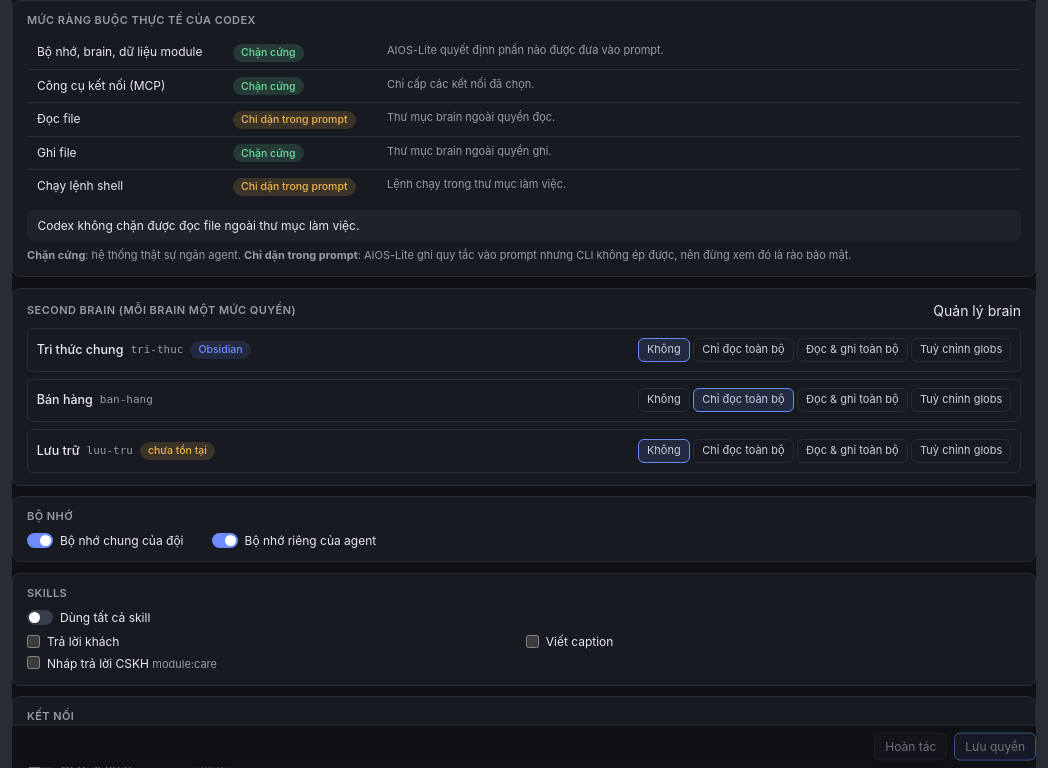
Scenario: brain management and skills admin (mock api) › agent access tab lists every brain with presets
Expected: the radio button labelled "Chỉ đọc toàn bộ" in the row of "ban-hang" is shown, [693, 388, 794, 412]
Expected: the radio button labelled "Không" in the row of "Obsidian" is shown, [638, 338, 690, 362]
Click the radio button labelled "Đọc & ghi toàn bộ" in the row of "Obsidian": (852, 350) [797, 338, 908, 362]
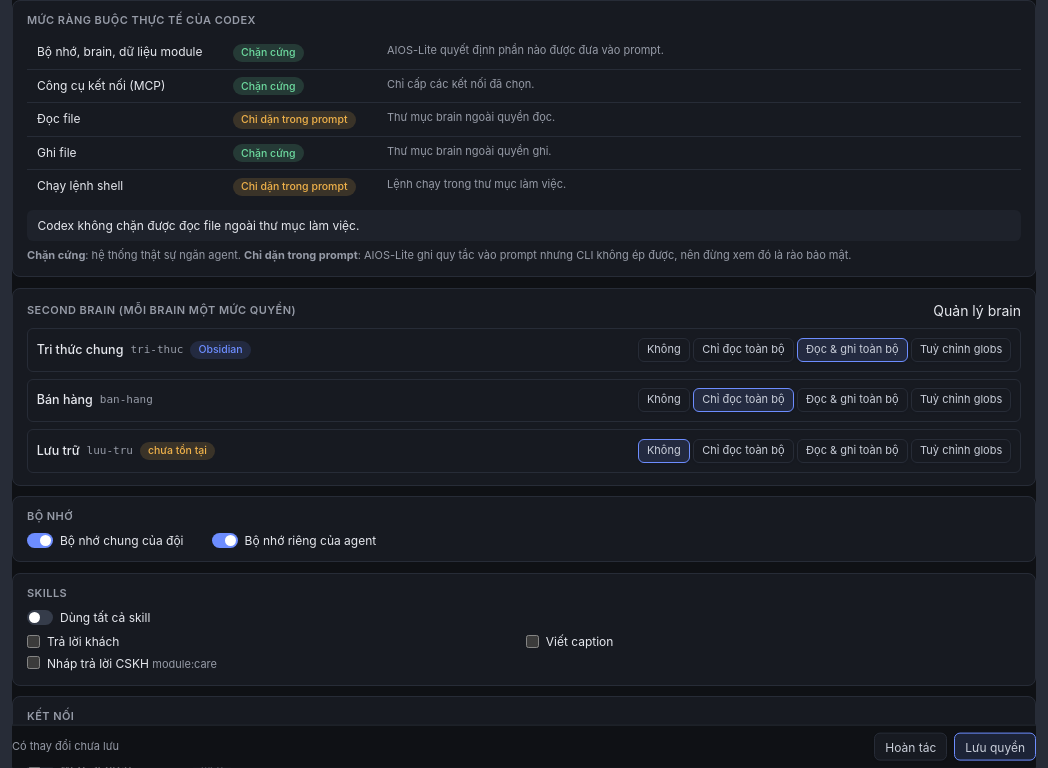
Click the radio button labelled "Tuỳ chỉnh globs" in the row of "Obsidian": (961, 350) [911, 338, 1011, 362]
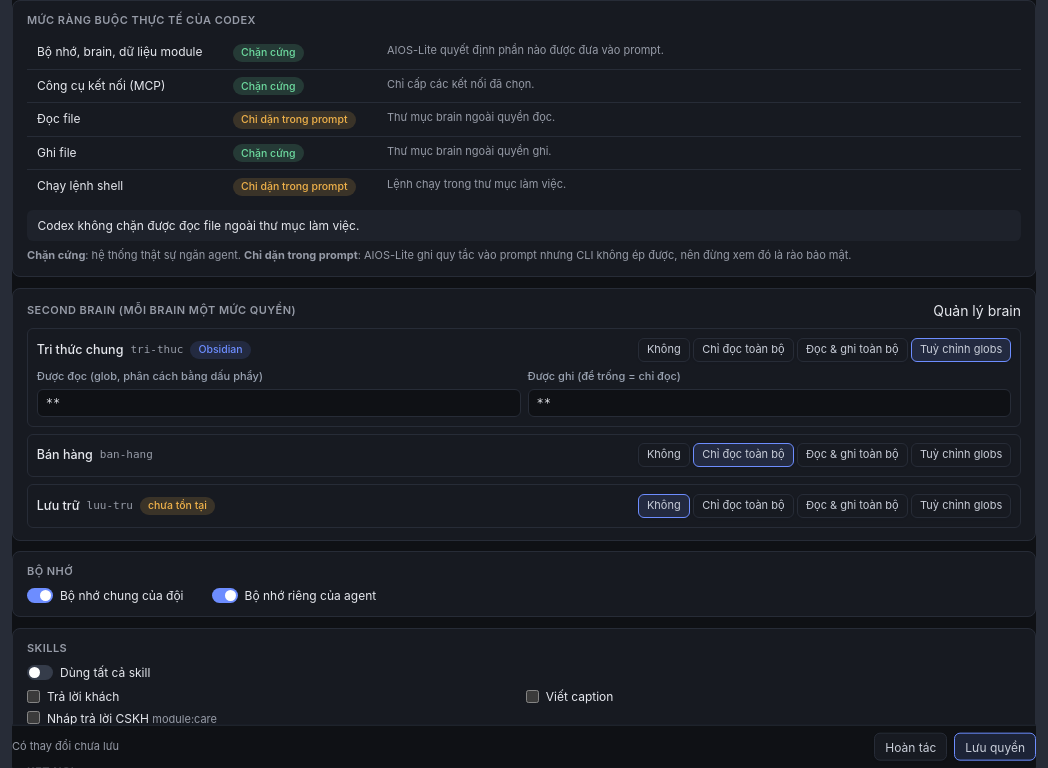
Expected: the field labelled "Được đọc (glob, phân cách bằng dấu phẩy)" is shown, [37, 389, 521, 417]
